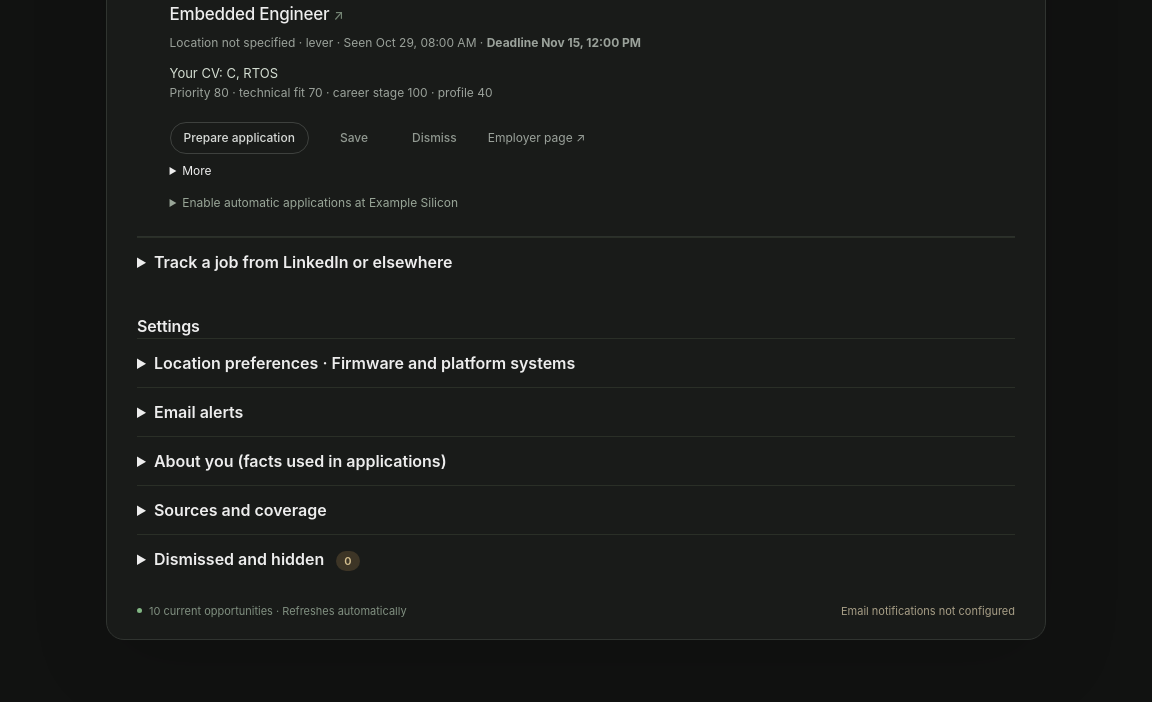
Test: hides postings by a word in the title or description through the rules API
(page scrolled)
Click the heading "Dismissed and hidden 0": [257, 560] box [154,549,360,571]
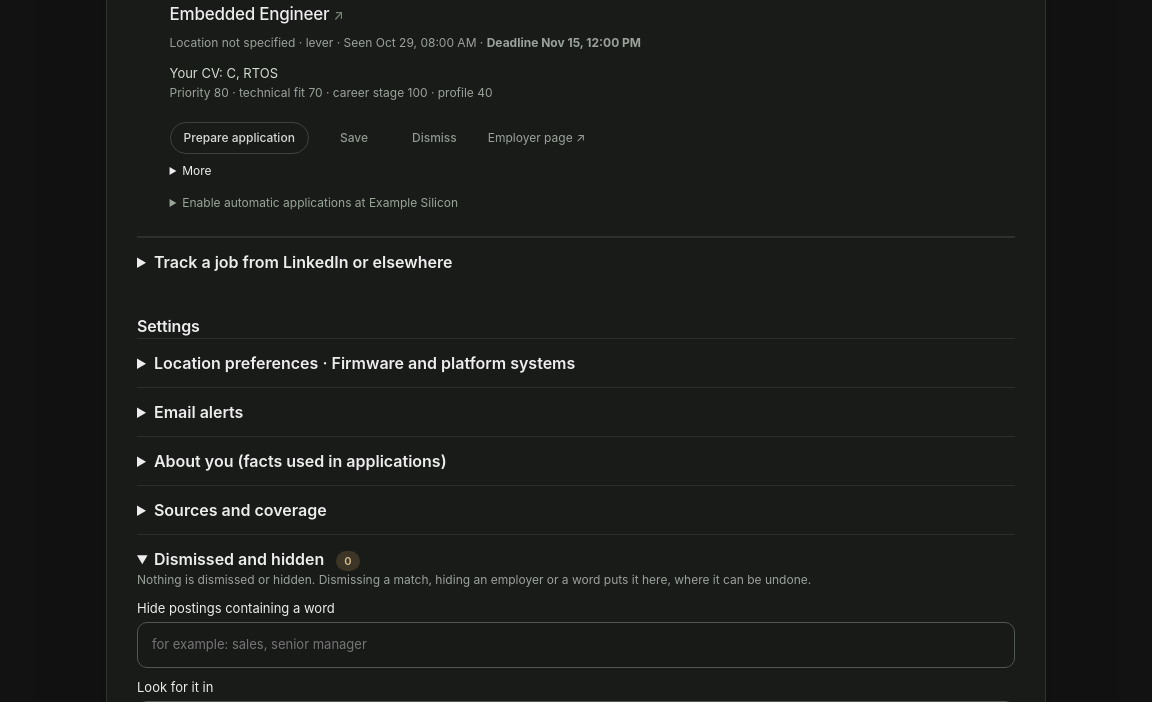
In the field labelled "Hide postings containing a word": [576, 645] box [137,622,1015,668], type " sales "
(page scrolled)
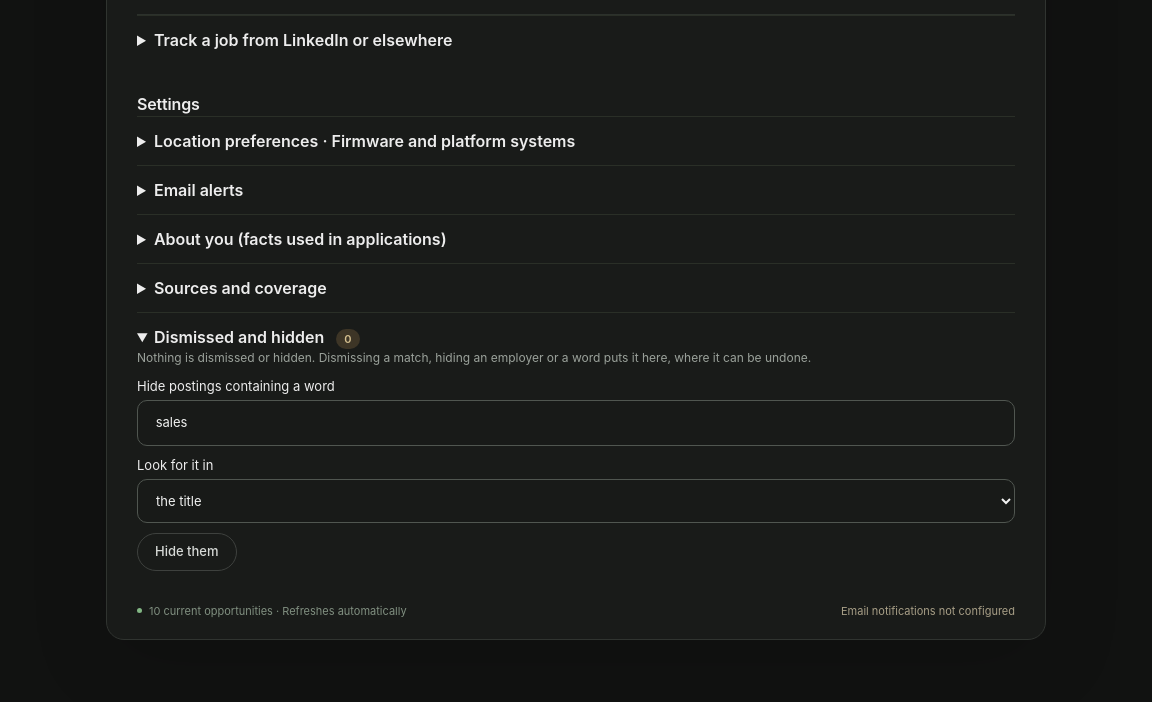
Select "the description" in the dropdown labelled "Look for it in": [576, 501] box [137,479,1015,523]
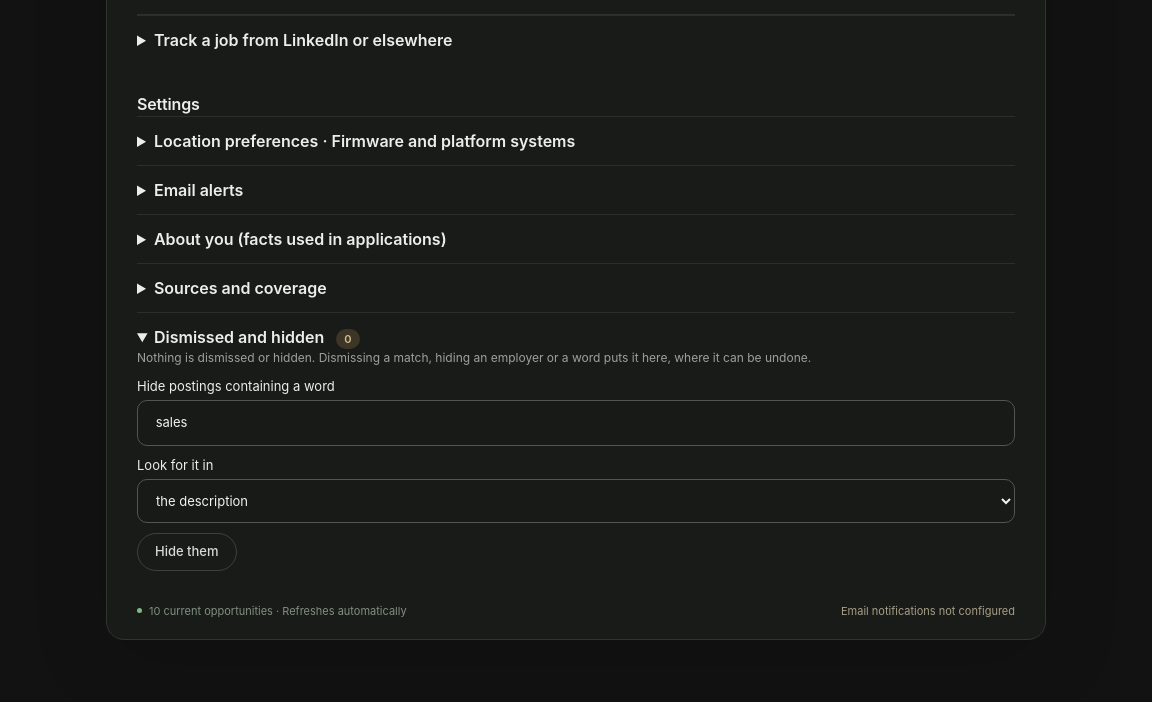
Click the button "Hide them": [187, 552] box [137,533,236,571]
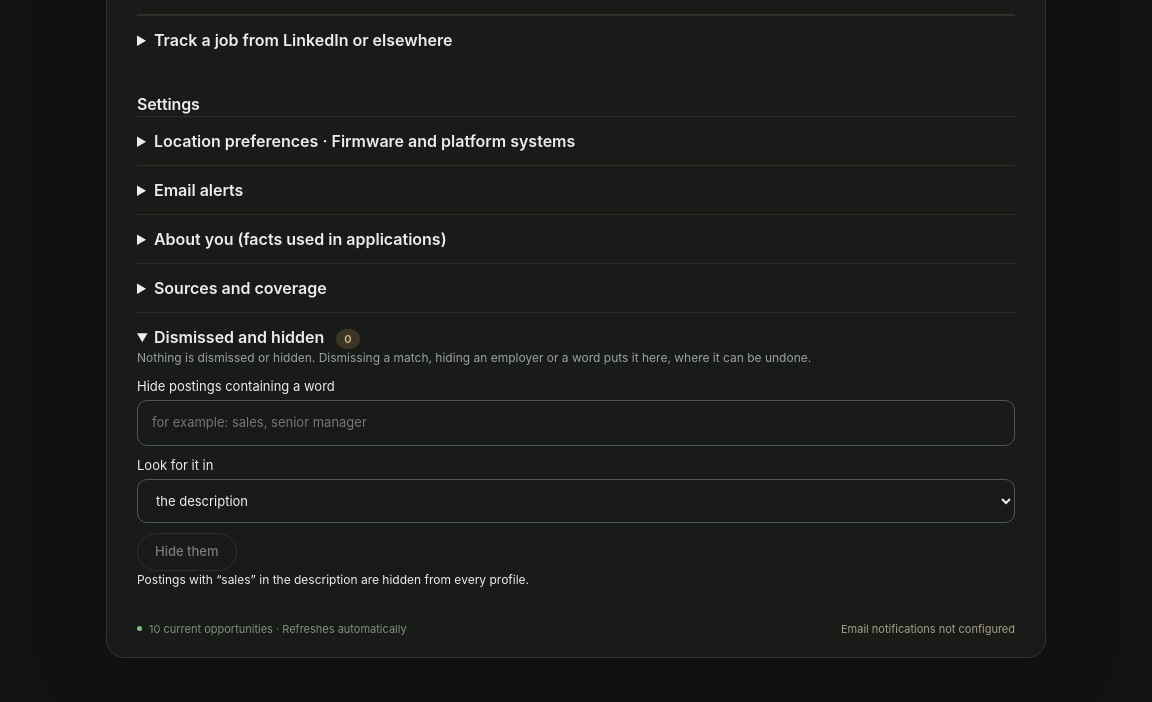
Expected: the text "Postings with “sales” in the description are hidden from every profile." is shown, [137,572,529,587]
